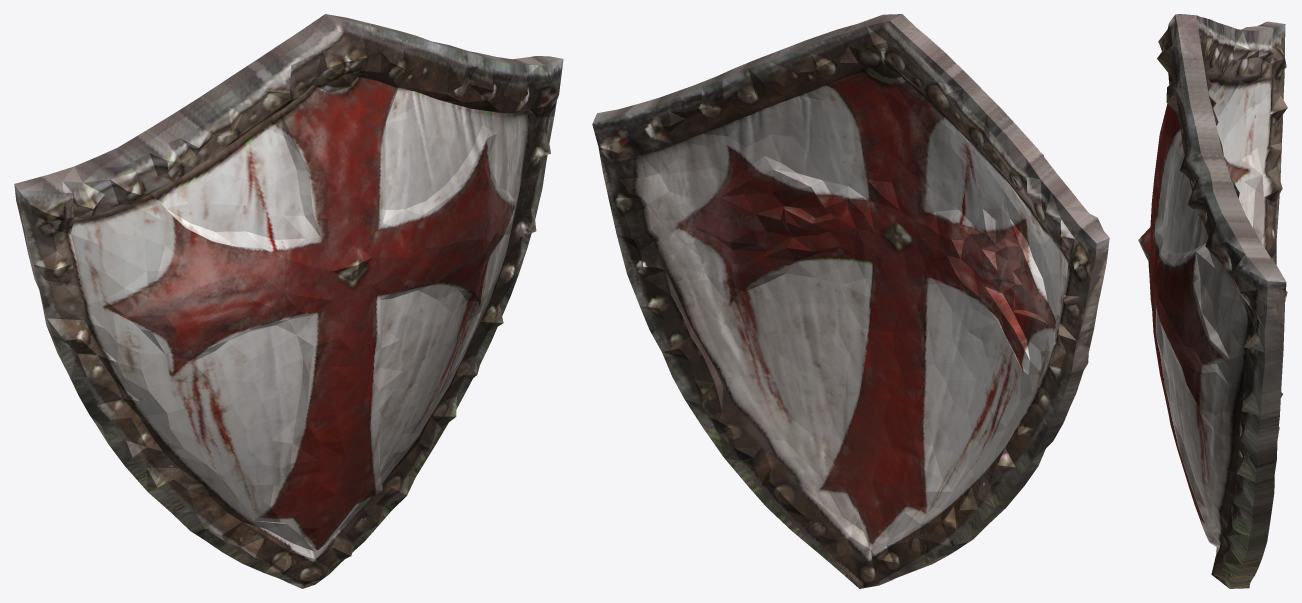
Rendered from w_kite_shield.glb.
The picture shows the model from 3 angles, left to right: view 1: azimuth 30°, elevation 25°; view 2: azimuth 150°, elevation 25°; view 3: azimuth 270°, elevation 25°; orthographic projection. The views are drawn at different scales.
Parts seen in each view (by area): view 1: geometry_0; view 2: geometry_0; view 3: geometry_0.
Boxes of the visible parts, left/top/right/bottom form: geometry_0: left=14, top=14, right=563, bottom=588; geometry_0: left=592, top=14, right=1109, bottom=588; geometry_0: left=1138, top=14, right=1287, bottom=588.
Size of the model in its own units: 1.07 by 1.1 by 0.2613.
Materials: 1 (1 with a texture image).
